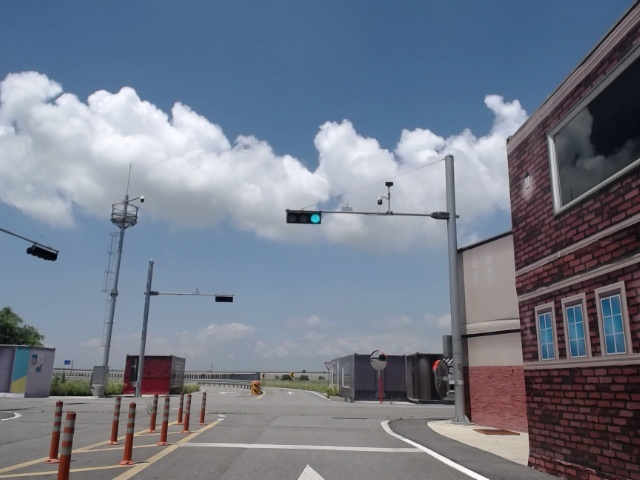green_3: (286, 213, 321, 225)
